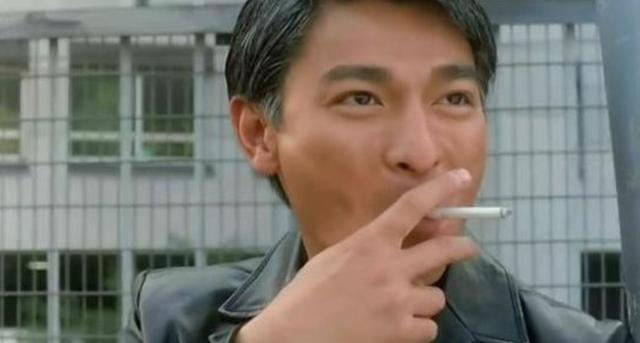smoke: (411, 207, 514, 221)
